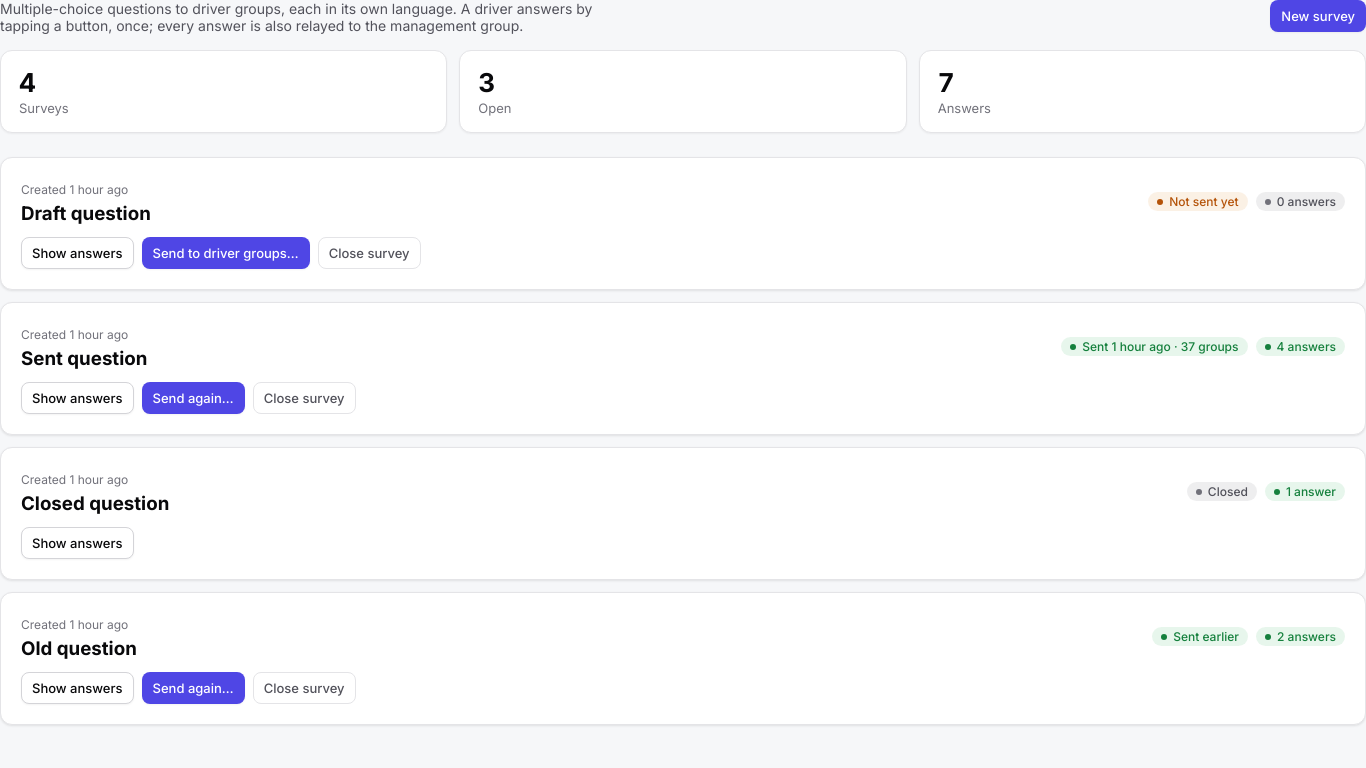
Test case: a confirmed send reports who could not be reached and reloads the list
Expected: the heading "Draft question" is shown, [21,202,151,225]
What coordinates should you click on to do the following:
click the button "Send again…" below "Sent question"
I would click on:
 (193, 398)
Its box is [142,382,245,414].
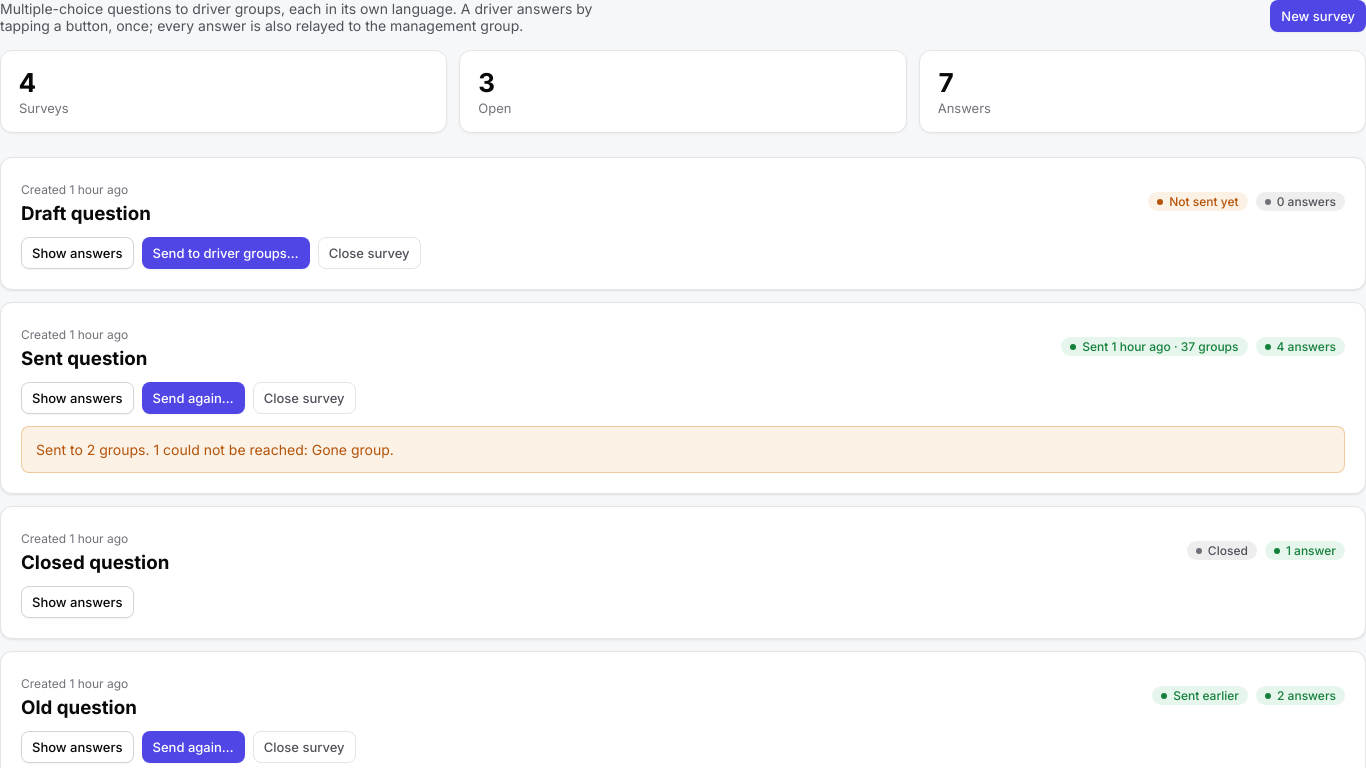
Result: the message reads "Sent to 2 groups. 1 could not be reached: Gone group." at [21,426,1345,473]
